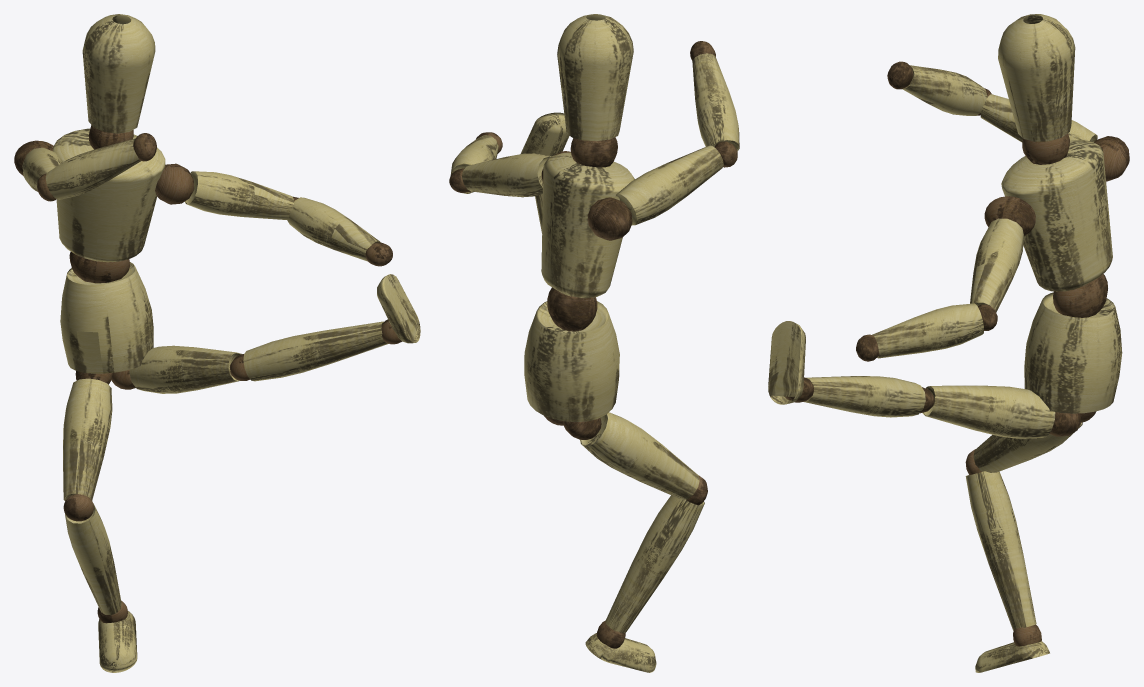
File: pose4.obj
3 views of the same model, side by side, from view 1: azimuth 30°, elevation 25°; view 2: azimuth 150°, elevation 25°; view 3: azimuth 270°, elevation 25° (orthographic). The views are drawn at different scales.
Visible parts, largest first — view 1: polySurface3 polySurface6, polySurface4 polySurface3, polySurface3 polySurface8, polySurface3 polySurface14, polySurface3 polySurface17, polySurface3 polySurface20, polySurface3 polySurface29, polySurface3 polySurface11, polySurface3 polySurface22, polySurface3 polySurface27, polySurface3 polySurface9, polySurface3 polySurface15 (+5 smaller); view 2: polySurface3 polySurface6, polySurface4 polySurface3, polySurface3 polySurface8, polySurface3 polySurface11, polySurface3 polySurface14, polySurface3 polySurface24, polySurface3 polySurface22, polySurface3 polySurface29, polySurface3 polySurface5, polySurface3 polySurface9, polySurface3 polySurface25, polySurface3 polySurface15 (+4 smaller); view 3: polySurface3 polySurface6, polySurface4 polySurface3, polySurface3 polySurface8, polySurface3 polySurface11, polySurface3 polySurface20, polySurface3 polySurface17, polySurface3 polySurface27, polySurface3 polySurface29, polySurface3 polySurface22, polySurface3 polySurface15, polySurface3 polySurface14, polySurface3 polySurface5 (+7 smaller).
Part boxes in pixels (box(x1,y1,x2,y2)): polySurface3 polySurface6: box(53, 128, 165, 262); polySurface4 polySurface3: box(60, 262, 153, 373); polySurface3 polySurface8: box(82, 14, 155, 133); polySurface3 polySurface14: box(63, 378, 112, 500); polySurface3 polySurface17: box(243, 321, 388, 381); polySurface3 polySurface20: box(129, 345, 241, 393); polySurface3 polySurface29: box(185, 171, 293, 219); polySurface3 polySurface11: box(65, 503, 121, 615); polySurface3 polySurface22: box(45, 138, 140, 199); polySurface3 polySurface27: box(287, 197, 380, 261); polySurface3 polySurface9: box(98, 611, 137, 672); polySurface3 polySurface15: box(377, 274, 420, 343); polySurface3 polySurface6: box(541, 152, 634, 298); polySurface4 polySurface3: box(524, 301, 619, 422); polySurface3 polySurface8: box(557, 14, 633, 141); polySurface3 polySurface11: box(605, 495, 704, 633); polySurface3 polySurface14: box(580, 412, 699, 499); polySurface3 polySurface24: box(616, 145, 723, 225); polySurface3 polySurface22: box(692, 53, 739, 151); polySurface3 polySurface29: box(462, 153, 550, 197); polySurface3 polySurface5: box(547, 287, 597, 331); polySurface3 polySurface9: box(585, 633, 656, 672); polySurface3 polySurface25: box(587, 197, 632, 240); polySurface3 polySurface15: box(520, 112, 569, 156); polySurface3 polySurface6: box(1001, 140, 1112, 291); polySurface4 polySurface3: box(1024, 292, 1122, 413); polySurface3 polySurface8: box(998, 14, 1075, 141); polySurface3 polySurface11: box(965, 471, 1036, 630); polySurface3 polySurface20: box(922, 385, 1055, 438); polySurface3 polySurface17: box(803, 376, 925, 417); polySurface3 polySurface27: box(872, 303, 983, 358); polySurface3 polySurface29: box(970, 218, 1023, 312); polySurface3 polySurface22: box(902, 65, 987, 115); polySurface3 polySurface15: box(768, 321, 805, 404); polySurface3 polySurface14: box(973, 422, 1082, 472); polySurface3 polySurface5: box(1053, 274, 1107, 317).
Size of the model in its own units: 1.74 by 3.49 by 1.71.
1 material, 1 textured.
